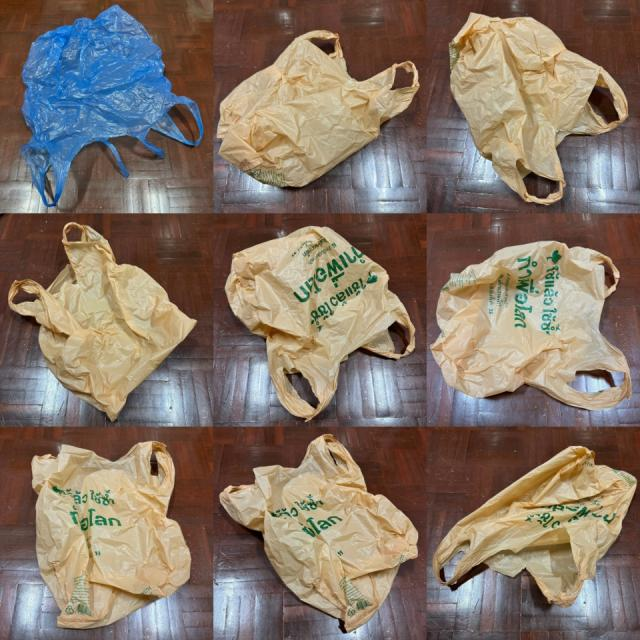Single-layer Plastic: (220, 434, 418, 631), (9, 222, 196, 421), (20, 5, 202, 207), (225, 226, 415, 419), (450, 12, 628, 204), (431, 241, 631, 410), (434, 446, 636, 608), (218, 30, 419, 188), (32, 442, 191, 629)
